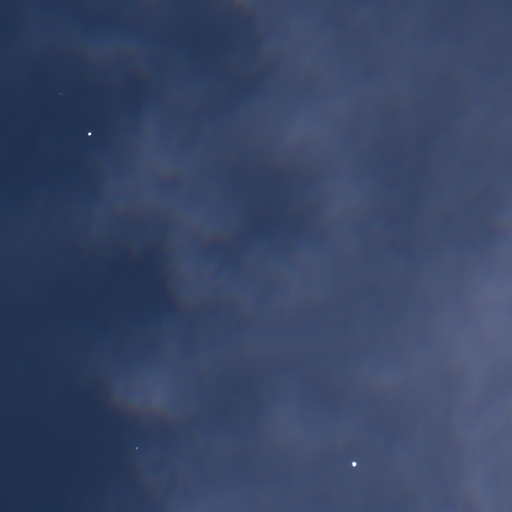Iceberg: (352, 462, 356, 466), (88, 132, 91, 135), (136, 447, 137, 449)
